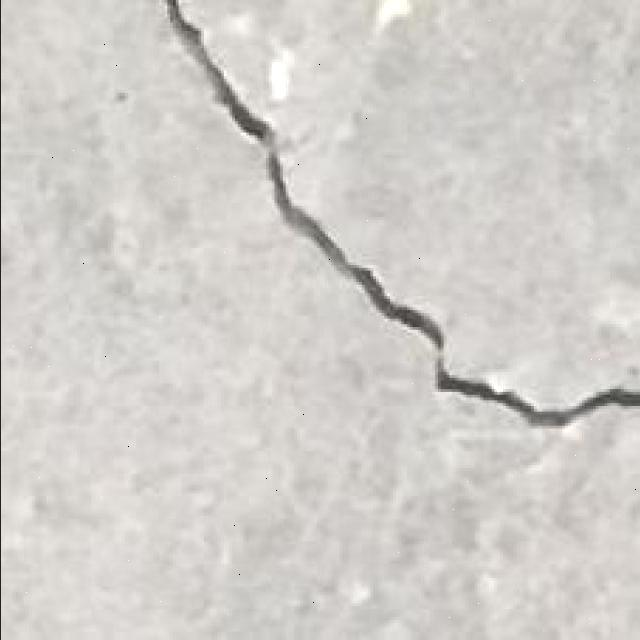crack: (162, 0, 638, 429), (149, 1, 419, 163), (194, 14, 248, 58), (166, 20, 199, 58)
